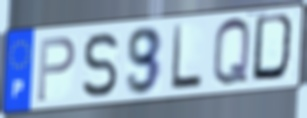9: (124, 24, 166, 97)
D: (250, 12, 299, 85)
L: (169, 23, 204, 93)
P: (35, 35, 77, 105)
Q: (211, 16, 252, 91)
S: (80, 30, 121, 100)
